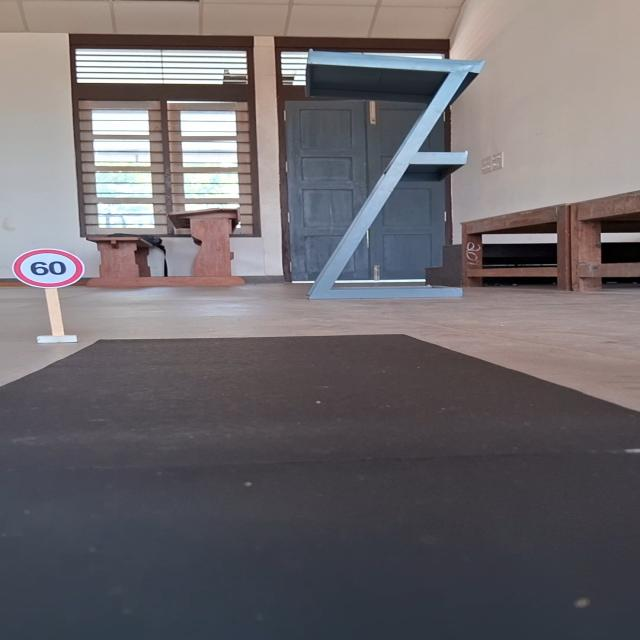Speed60: (11, 248, 85, 290)
